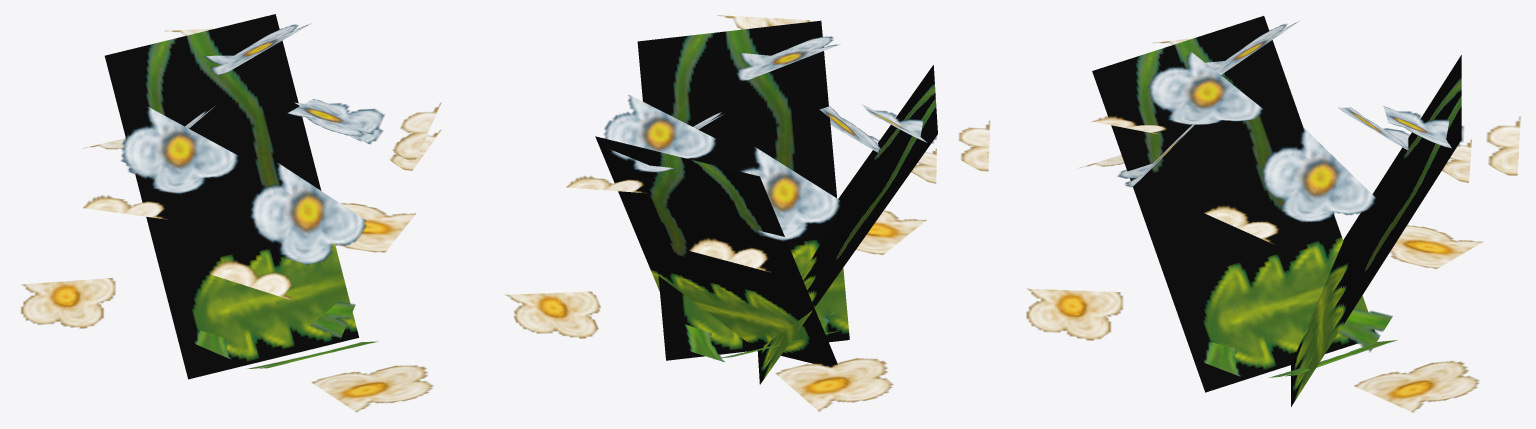
3 renders of one model, left to right at view 1: azimuth 30°, elevation 25°; view 2: azimuth 150°, elevation 25°; view 3: azimuth 270°, elevation 25°, orthographic. The views are drawn at different scales.
Parts seen in each view (by area): view 1: white_stem, white_flowers, white_leaves; view 2: white_stem, white_flowers, white_leaves; view 3: white_stem, white_flowers, white_leaves.
Boxes of the visible parts, <box> form: white_stem: <box>104,14,358,379</box>; white_flowers: <box>83,23,441,301</box>; white_leaves: <box>21,203,433,412</box>; white_stem: <box>595,20,937,384</box>; white_flowers: <box>566,15,990,272</box>; white_leaves: <box>506,210,926,411</box>; white_stem: <box>1092,16,1461,406</box>; white_flowers: <box>1080,21,1520,244</box>; white_leaves: <box>1026,225,1482,412</box>.
Bounding box in the file's own units: 82.94 × 55.5 × 82.85.
3 materials, 3 textured.
